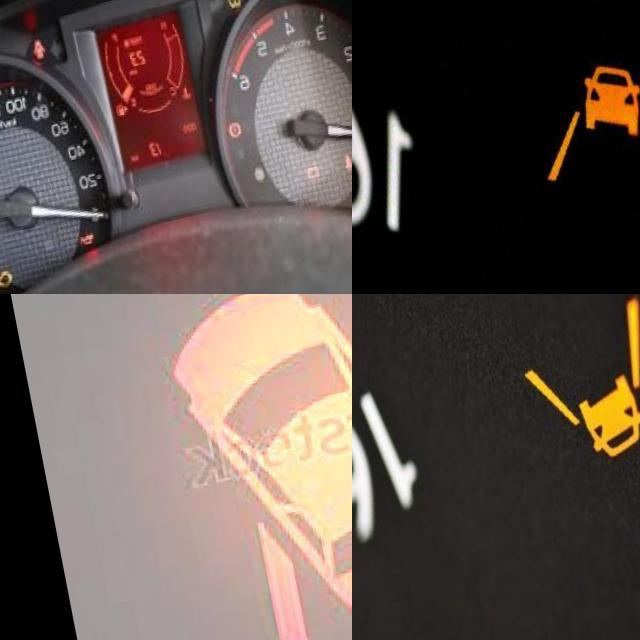Seat Belt: (329, 175, 344, 192)
